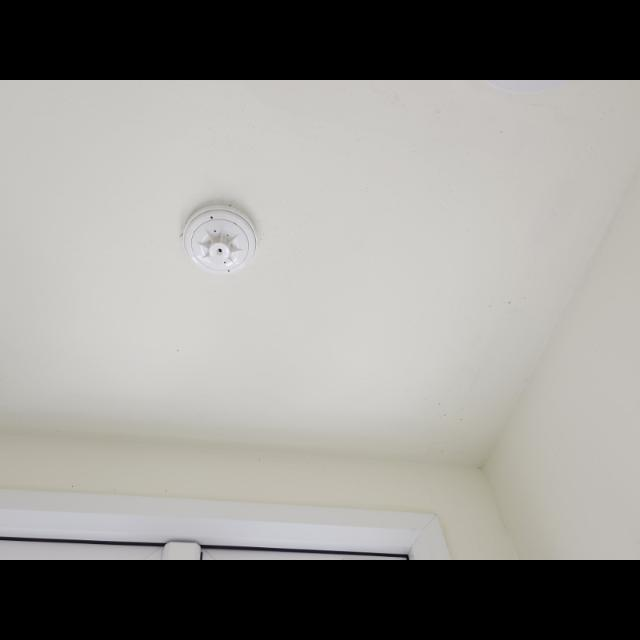Smoke-Detector: (185, 204, 261, 276)
